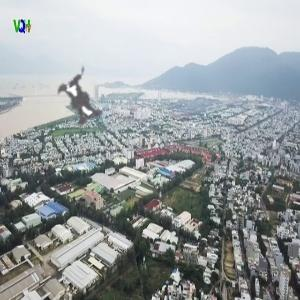drone: (20, 43, 143, 166)
